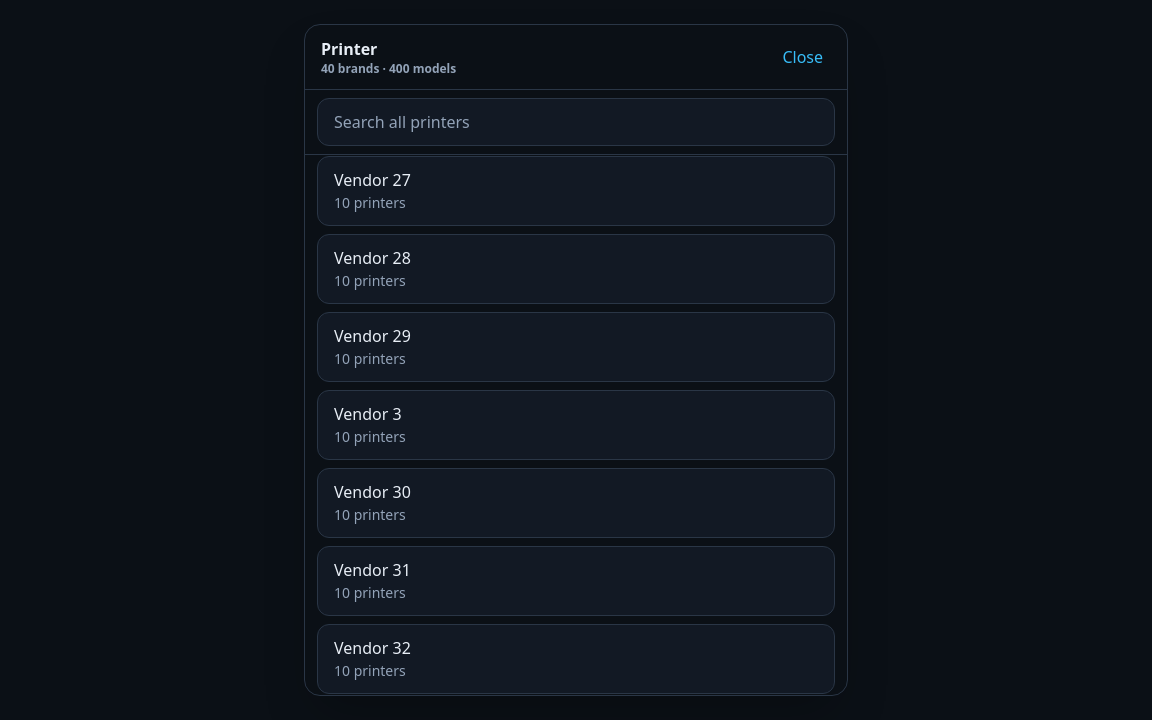
Scenario: PrinterPicker › drills into a brand and back out
(page scrolled)
What coordinates should you click on to do the following:
click the button with test id "vendor-V3"
I would click on:
 (368, 414)
Its box is x1=317 y1=390 x2=835 y2=460.
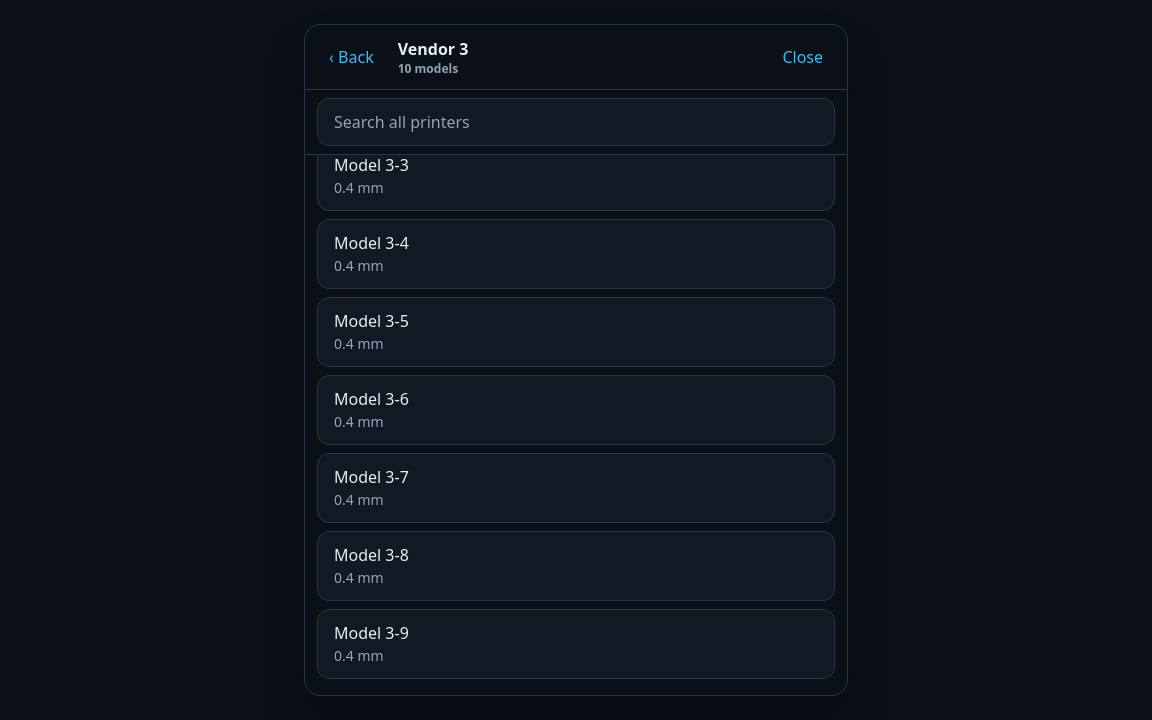
What coordinates should you click on to do the following:
click the button "‹ Back"
I would click on:
 (351, 57)
Its box is x1=317 y1=33 x2=386 y2=81.
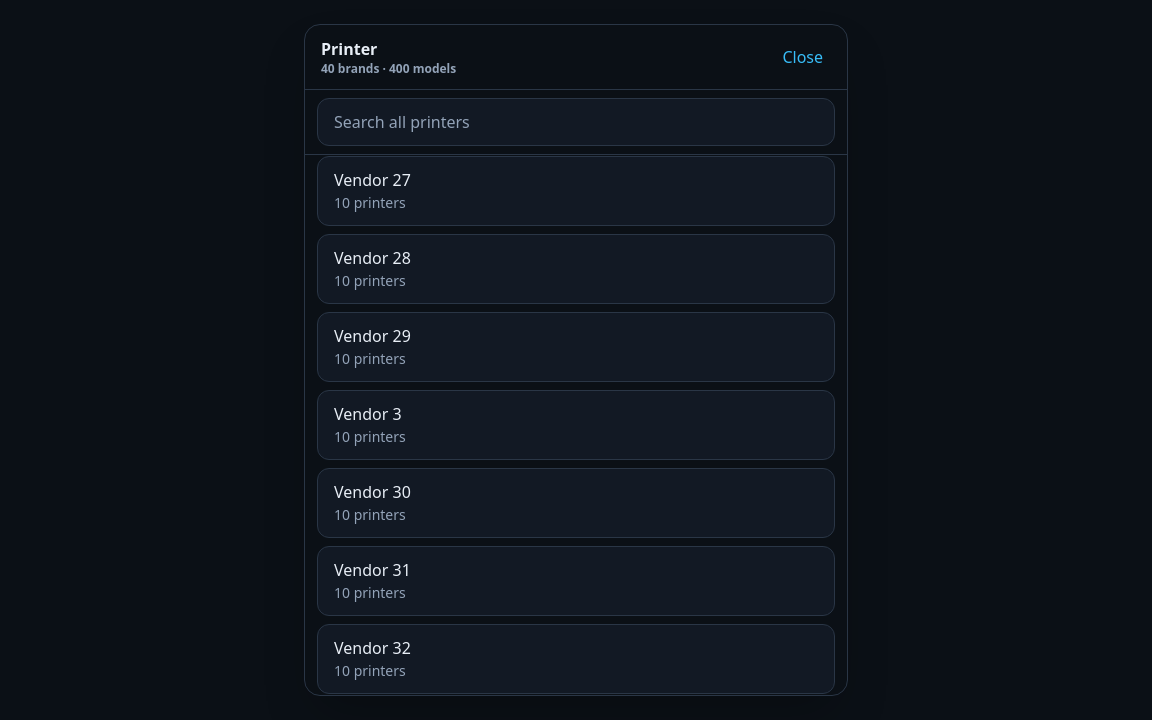
Check: the button with test id "vendor-V3" is shown, box x1=317 y1=390 x2=835 y2=460
